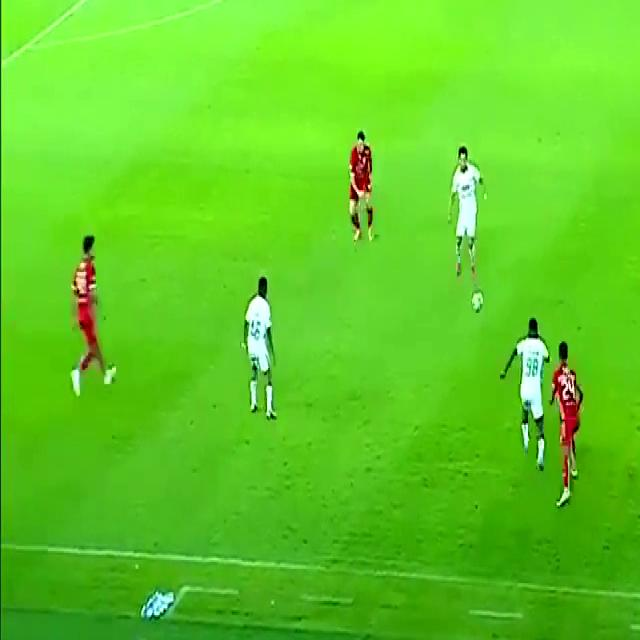ball: (468, 286, 488, 319)
soccer-player: (52, 230, 116, 404), (233, 269, 290, 438), (436, 138, 493, 285), (501, 310, 548, 463), (548, 334, 586, 513), (337, 124, 384, 252)
